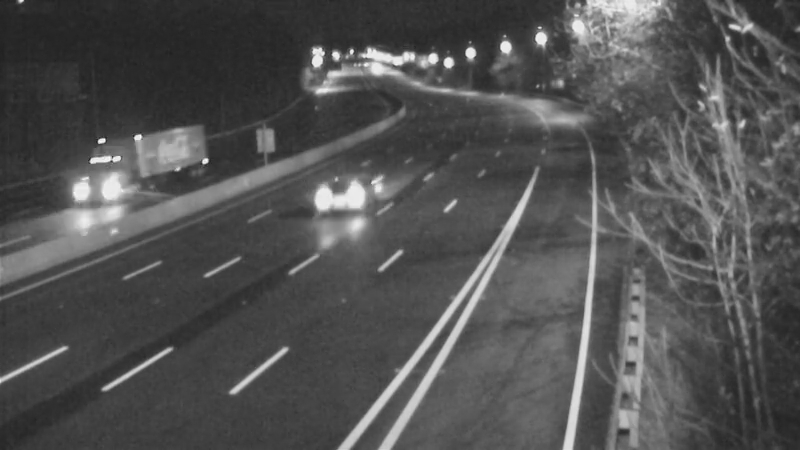vehicle: (301, 152, 381, 232), (59, 147, 139, 227)
